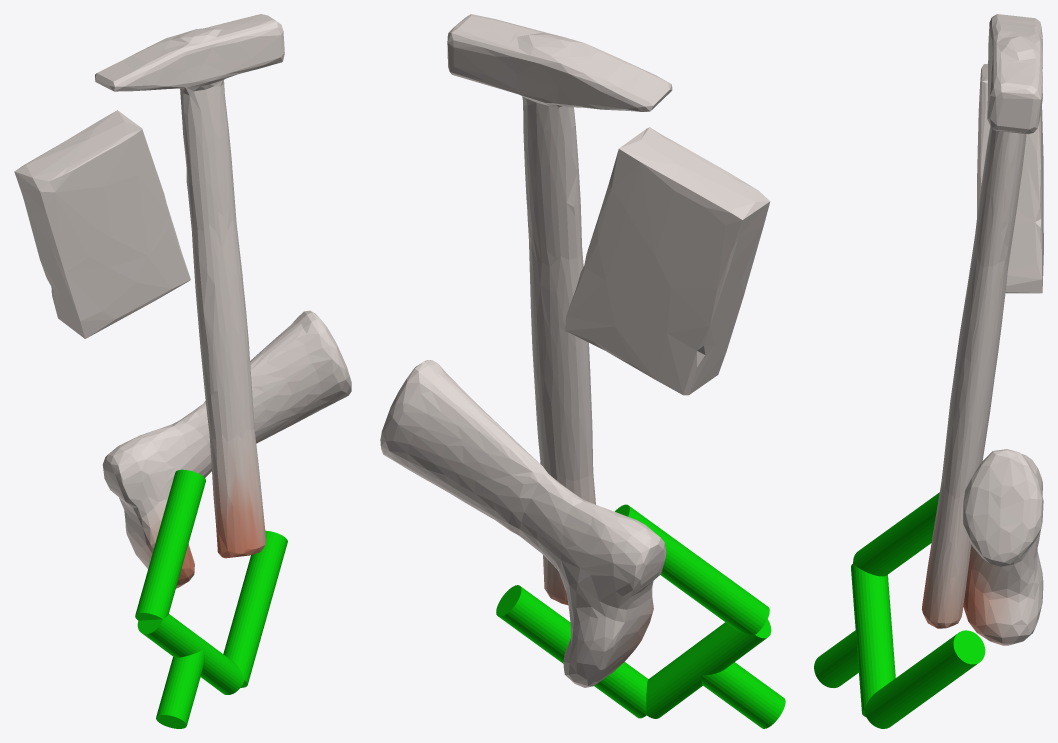
The model's file is round_000_trial_002.obj.
The picture shows the model from 3 angles, left to right: view 1: azimuth 30°, elevation 25°; view 2: azimuth 150°, elevation 25°; view 3: azimuth 270°, elevation 25°; orthographic projection. The views are drawn at different scales.
Visible parts, largest first — view 1: geometry_0, geometry_1; view 2: geometry_0, geometry_1; view 3: geometry_0, geometry_1.
Part boxes in pixels (left/top/right/bottom): geometry_0: left=14, top=14, right=351, bottom=588; geometry_1: left=135, top=469, right=287, bottom=728; geometry_0: left=380, top=14, right=770, bottom=687; geometry_1: left=496, top=504, right=785, bottom=728; geometry_0: left=922, top=14, right=1043, bottom=645; geometry_1: left=814, top=492, right=985, bottom=728.
Size of the model in its own units: 0.1144 by 0.212 by 0.063.
